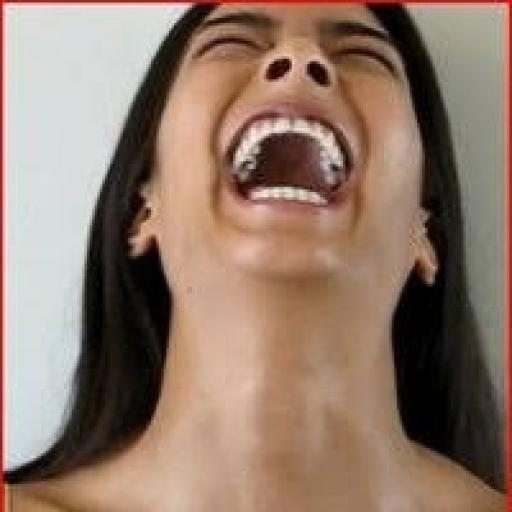laughing: (2, 0, 509, 509)
